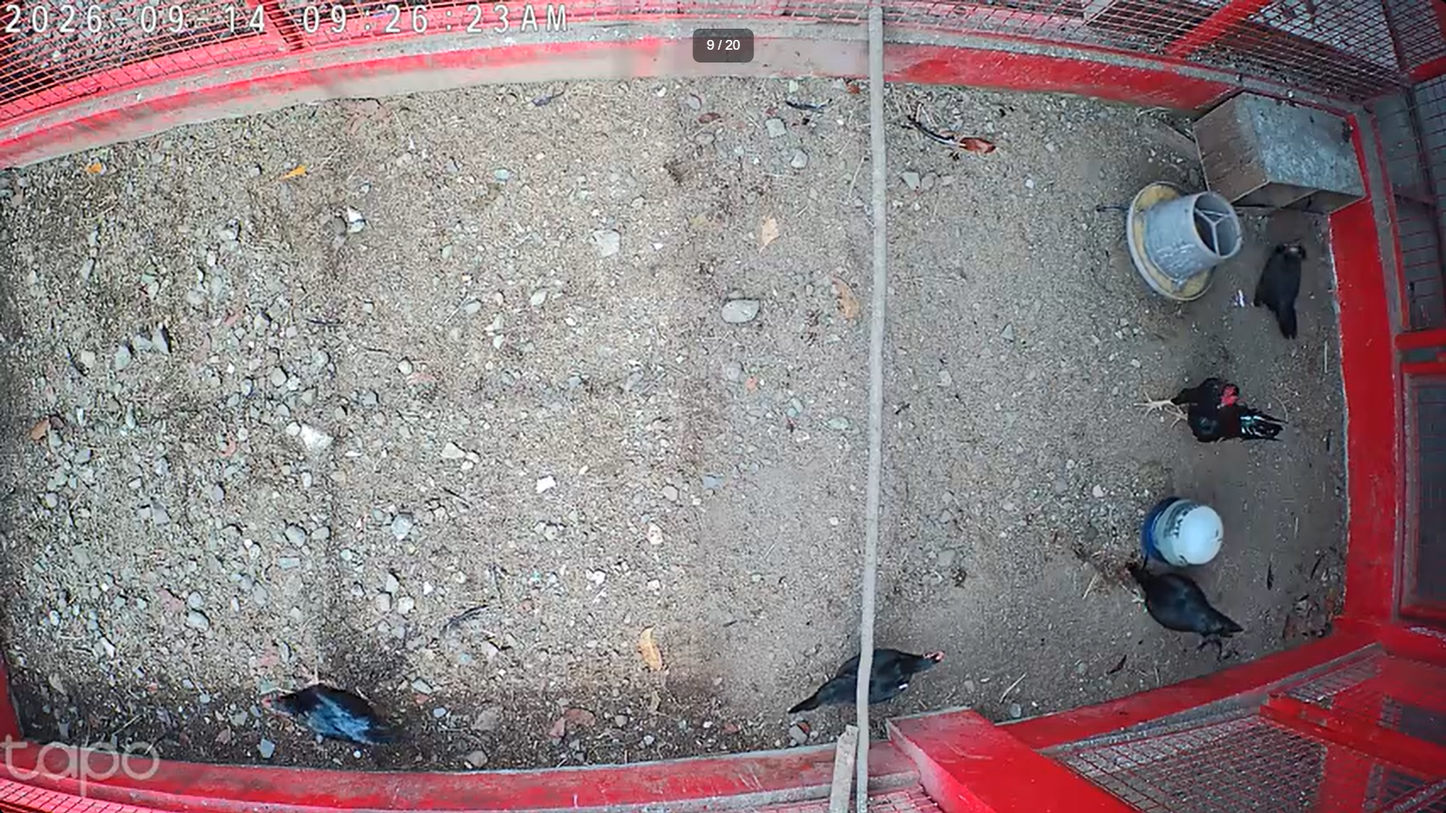Chicken: (262, 661, 414, 750), (1122, 557, 1250, 649), (783, 648, 945, 718), (1233, 243, 1310, 342)
Rooster: (1128, 373, 1290, 450)
